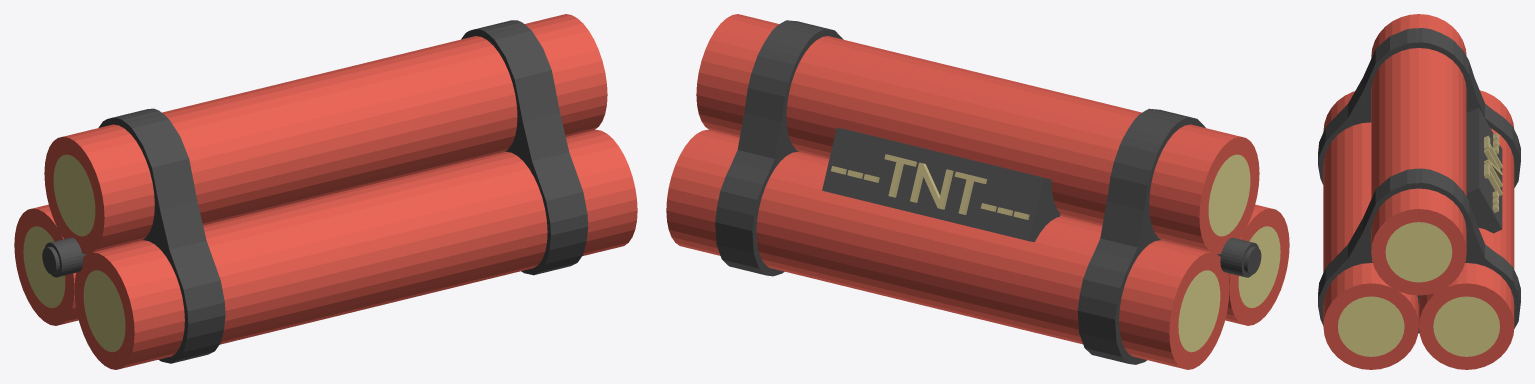
File: Dynamite.fbx
3 renders of one model, left to right at view 1: azimuth 30°, elevation 25°; view 2: azimuth 150°, elevation 25°; view 3: azimuth 270°, elevation 25°, orthographic. The views are drawn at different scales.
Visible parts, largest first — view 1: Cylinder.001, Plane, Cylinder; view 2: Cylinder.001, Plane, Cube, Text, Cylinder; view 3: Cylinder.001, Plane, Cube, Text.
Boxes of the visible parts, box(x1,y1,x2,y2) form: Cylinder.001: box(14, 14, 637, 369); Plane: box(98, 20, 588, 363); Cylinder: box(42, 237, 86, 277); Cylinder.001: box(666, 14, 1289, 369); Plane: box(715, 20, 1205, 364); Cube: box(822, 127, 1060, 242); Text: box(831, 154, 1029, 219); Cylinder: box(1217, 237, 1261, 277); Cylinder.001: box(1323, 14, 1514, 369); Plane: box(1318, 28, 1520, 333); Cube: box(1466, 107, 1502, 233); Text: box(1484, 133, 1502, 212).
Size of the model in its own units: 1014 by 395 by 424.
